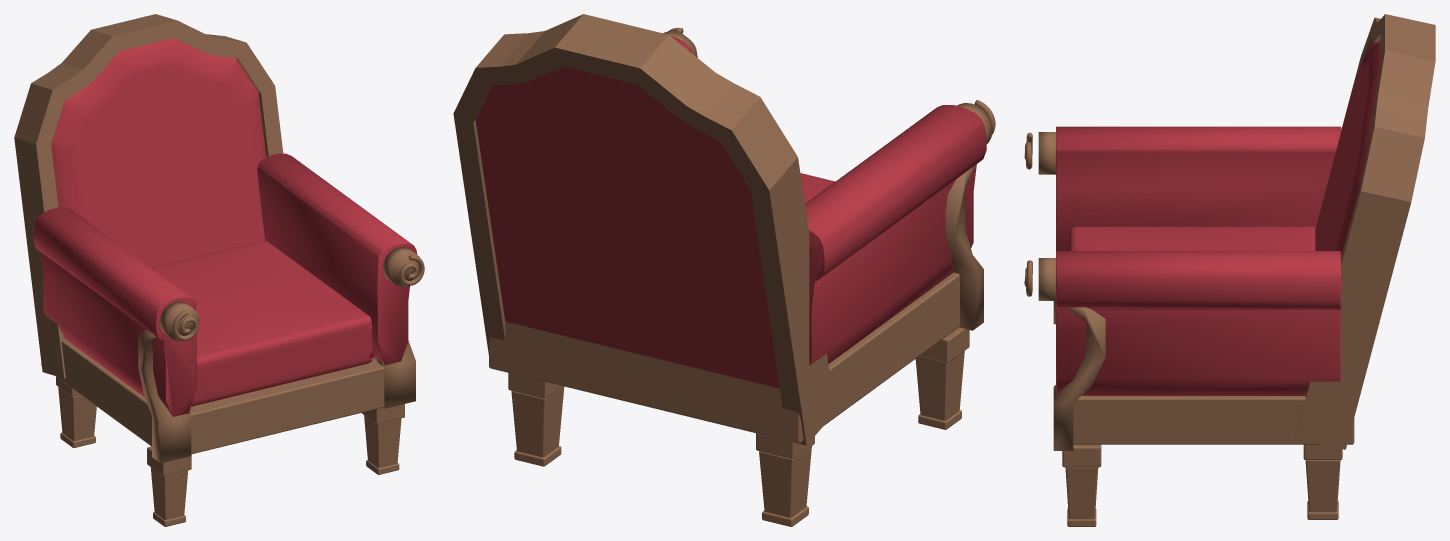
File: Armchair.glb
3 views of the same model, side by side, from view 1: azimuth 30°, elevation 25°; view 2: azimuth 150°, elevation 25°; view 3: azimuth 270°, elevation 25° (orthographic). The views are drawn at different scales.
Visible parts, largest first — view 1: Armchair_BackPanel, Armchair_Seat, Armchair_Arm_L, Armchair_Arm_R, Armchair_BackFrame, Armchair_Base, Armchair_ArmFront_L, Armchair_ArmFront_R, Armchair_Leg_FL, Armchair_Leg_FR, Armchair_Leg_BL; view 2: Armchair_BackRear, Armchair_BackFrame, Armchair_Arm_L, Armchair_Base, Armchair_Leg_BL, Armchair_Leg_BR, Armchair_ArmFront_L, Armchair_Leg_FL; view 3: Armchair_Arm_R, Armchair_Arm_L, Armchair_BackFrame, Armchair_Base, Armchair_Seat, Armchair_BackPanel, Armchair_ArmFront_R, Armchair_Leg_FR, Armchair_Leg_BR, Armchair_ArmFront_L.
Boxes of the visible parts, box(x1,y1,x2,y2) form: Armchair_BackPanel: box(51, 38, 266, 267); Armchair_Seat: box(152, 240, 373, 406); Armchair_Arm_L: box(33, 207, 196, 416); Armchair_Arm_R: box(257, 153, 417, 365); Armchair_BackFrame: box(14, 14, 283, 378); Armchair_Base: box(41, 340, 384, 454); Armchair_ArmFront_L: box(138, 301, 199, 463); Armchair_ArmFront_R: box(375, 247, 424, 408); Armchair_Leg_FL: box(147, 446, 191, 526); Armchair_Leg_FR: box(362, 404, 404, 474); Armchair_Leg_BL: box(56, 377, 96, 447); Armchair_BackRear: box(475, 66, 779, 388); Armchair_BackFrame: box(453, 14, 835, 445); Armchair_Arm_L: box(805, 105, 986, 365); Armchair_Base: box(489, 272, 959, 443); Armchair_Leg_BL: box(756, 433, 814, 526); Armchair_Leg_BR: box(508, 373, 564, 466); Armchair_ArmFront_L: box(945, 100, 995, 330); Armchair_Leg_FL: box(915, 327, 969, 429); Armchair_Arm_R: box(1056, 251, 1341, 395); Armchair_Arm_L: box(1056, 126, 1341, 250); Armchair_BackFrame: box(1295, 14, 1435, 449); Armchair_Base: box(1073, 396, 1354, 444); Armchair_Seat: box(1069, 226, 1315, 250); Armchair_BackPanel: box(1315, 40, 1380, 255); Armchair_ArmFront_R: box(1024, 258, 1105, 450); Armchair_Leg_FR: box(1062, 444, 1101, 526); Armchair_Leg_BR: box(1303, 444, 1342, 519); Armchair_ArmFront_L: box(1024, 132, 1055, 324).
Bounding box in the file's own units: 0.81 × 1.1 × 0.9514.
